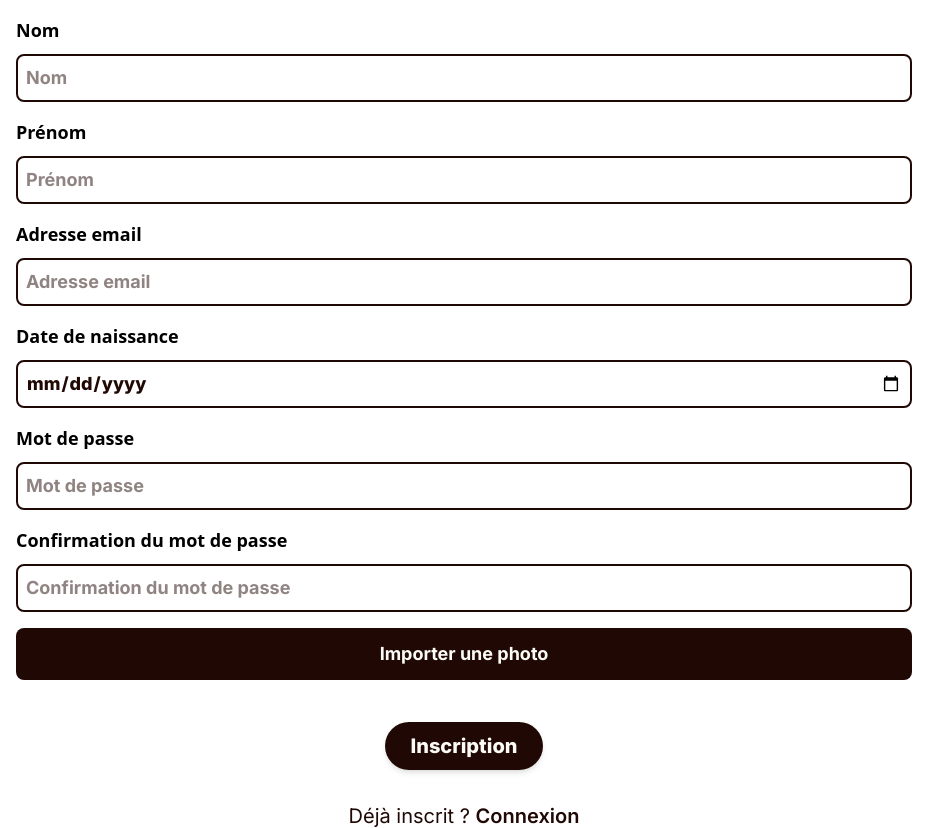
Scenario: RegisterForm › tous les champs doivent être remplis
The image size is (929, 828).
Click the button with test id "buttonRegister" at point(464, 746), box [386,722,542,770]
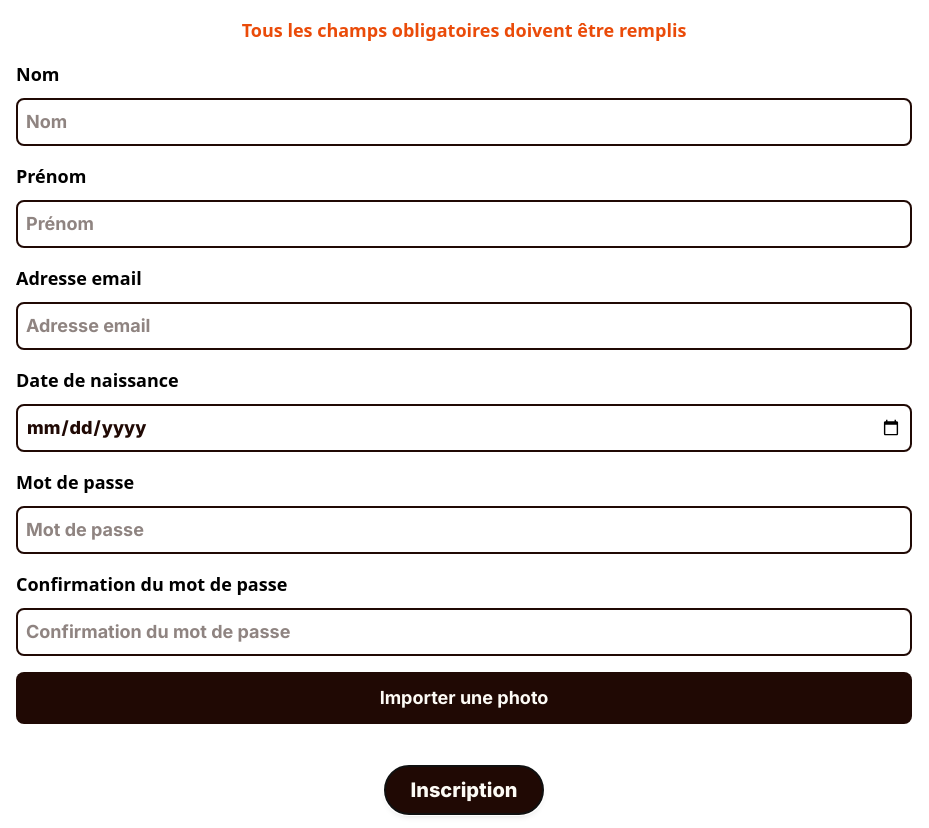
Expected: the field with test id "lastNameRegister" is empty, [16,98,912,146]
Result: the text "Tous les champs obligatoires doivent être remplis" is shown at [242,16,686,44]
